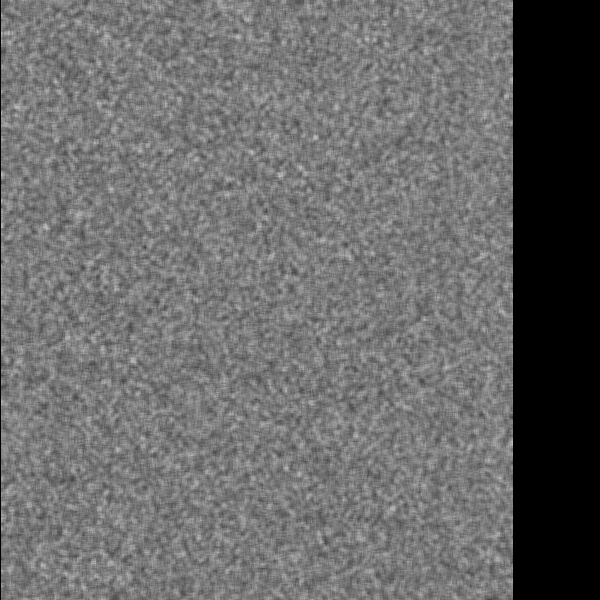spark: (255, 435, 317, 483), (266, 125, 320, 177), (348, 182, 401, 202)
